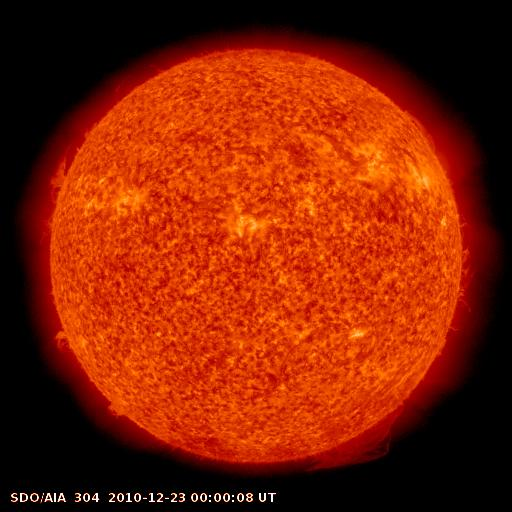prominence: (301, 400, 419, 474), (40, 120, 99, 209), (444, 227, 481, 323), (36, 312, 82, 362), (400, 104, 442, 156), (94, 383, 139, 429)
